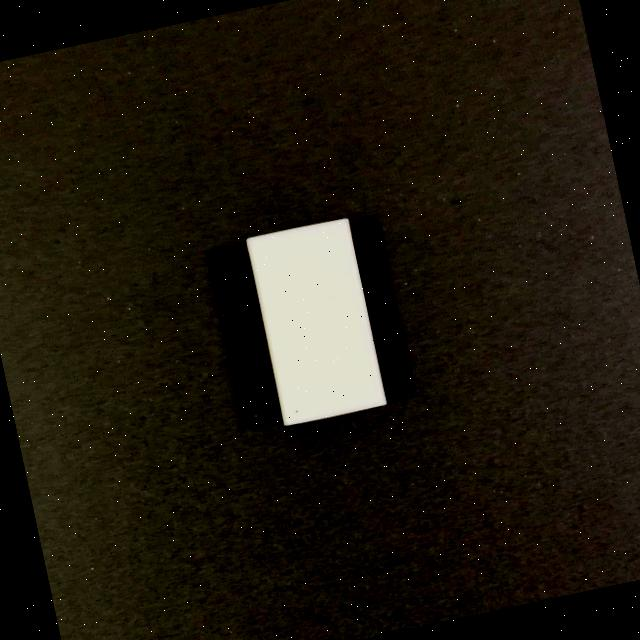Eraser: (158, 142, 464, 492)
